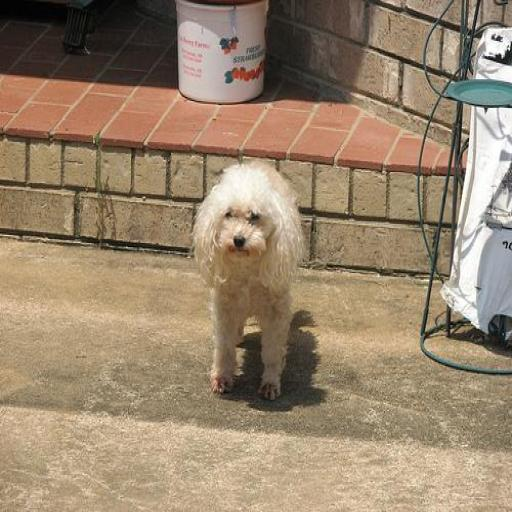dog_face: (189, 158, 301, 288)
